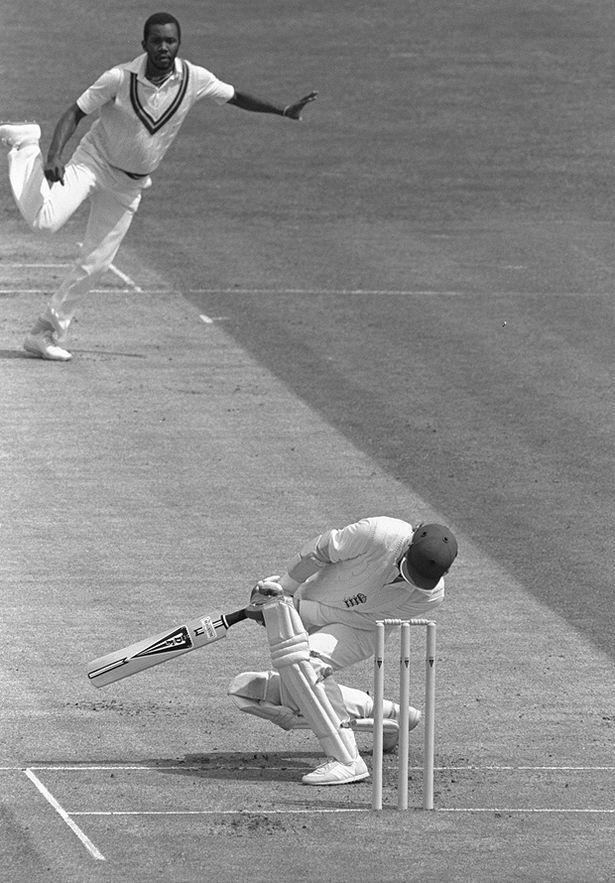batsman: (87, 477, 462, 770)
